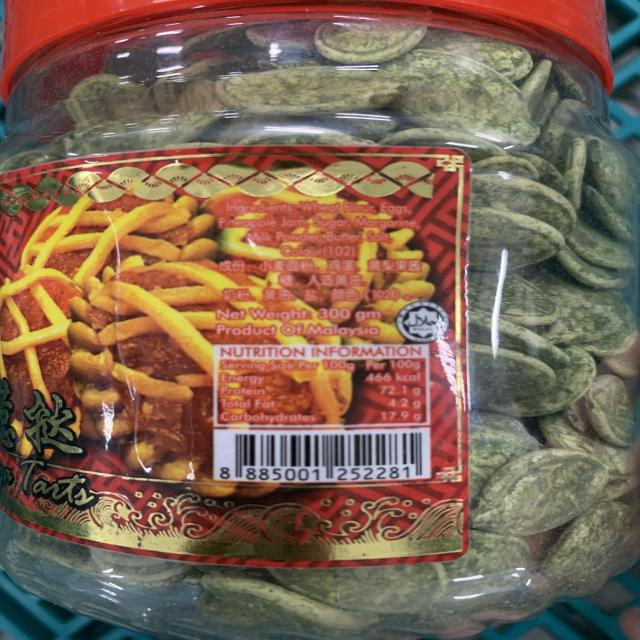object_name: (6, 2, 637, 596)
